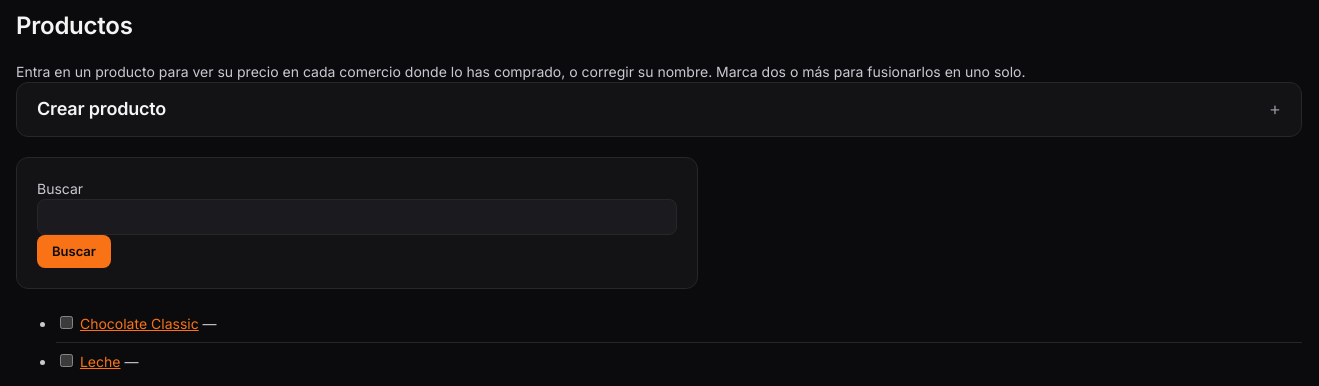
Test: ProductsPage › buscar filtra la lista
Expected: the link "Chocolate Classic" is shown, [80, 315, 199, 332]
In the field labelled "Buscar": (357, 216) [37, 198, 677, 234], type "choco"
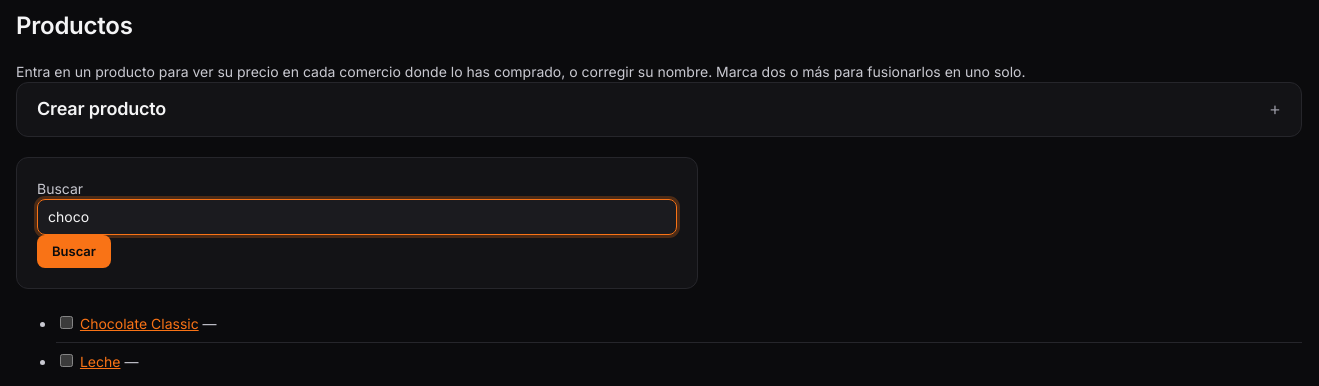
Click the button "Buscar": (74, 251) [37, 234, 111, 268]
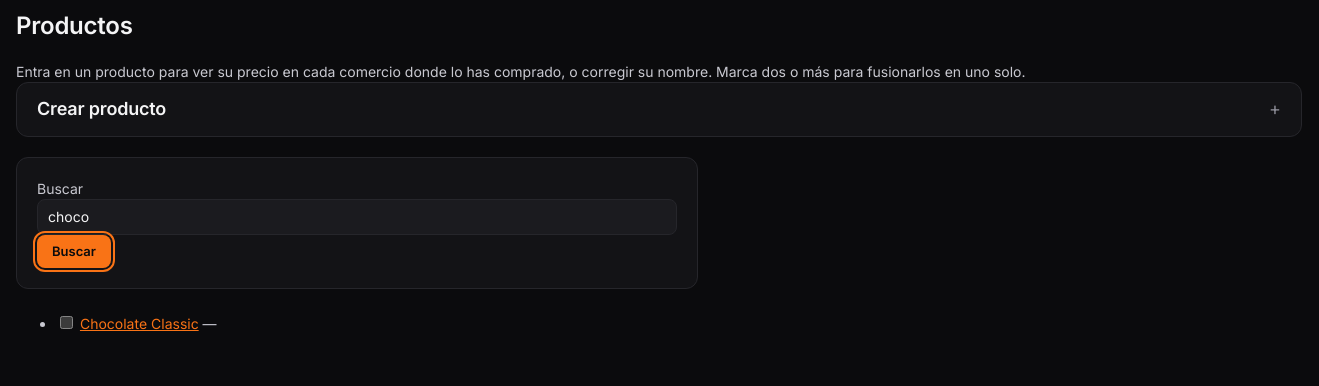
Expected: the link "Chocolate Classic" is shown, [80, 315, 199, 332]
Result: the link "Leche" is gone
